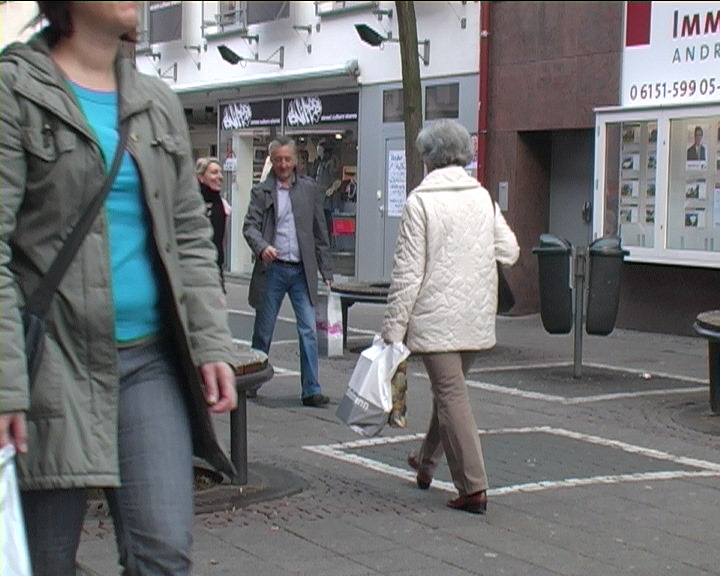undeflect: (397, 125, 511, 228), (253, 136, 319, 202)
